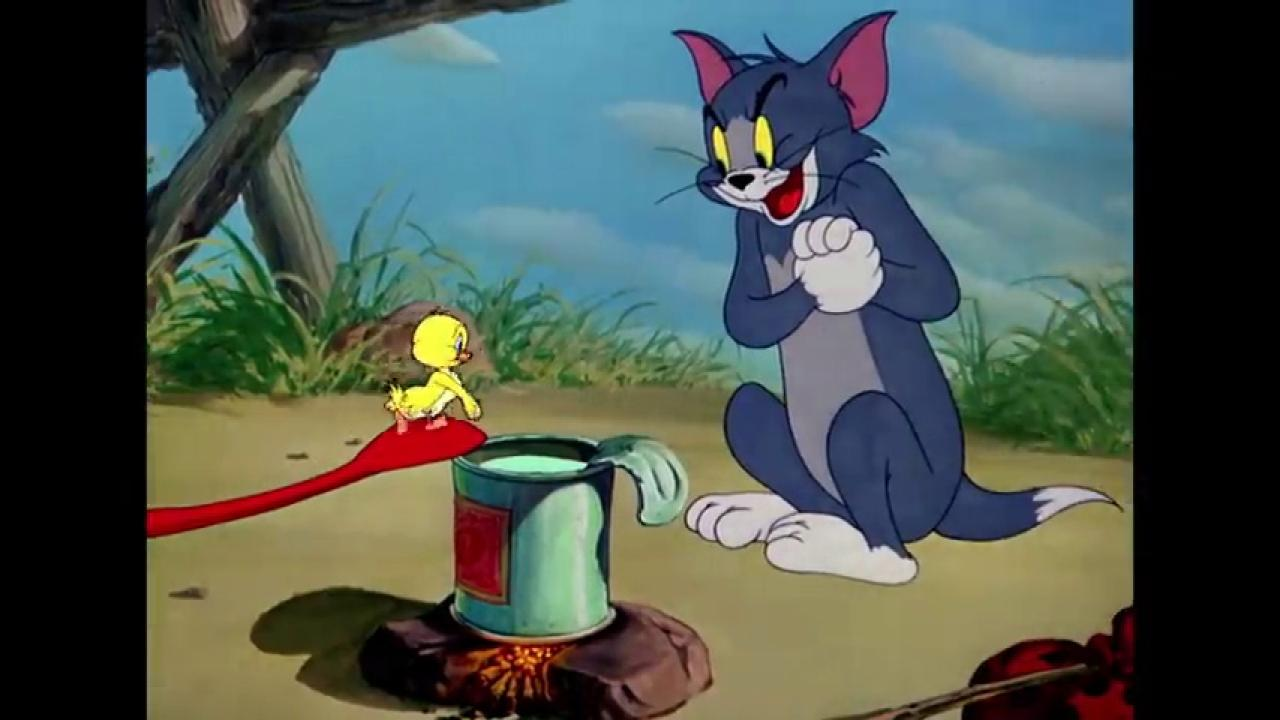Tom: (670, 7, 1125, 587)
